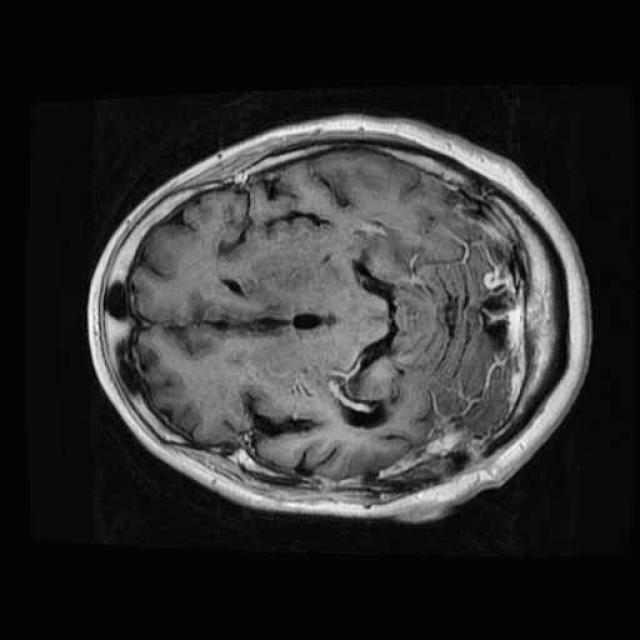Tumor: (344, 378, 520, 524)
